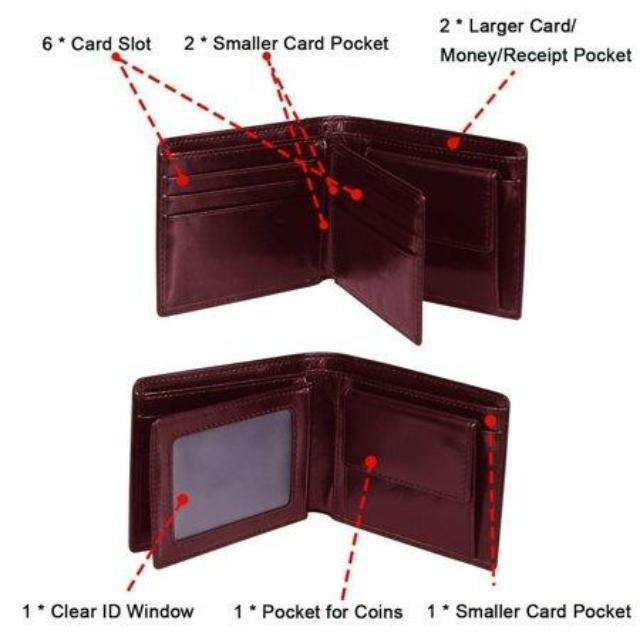wallet: (125, 348, 511, 590), (150, 110, 534, 346)
